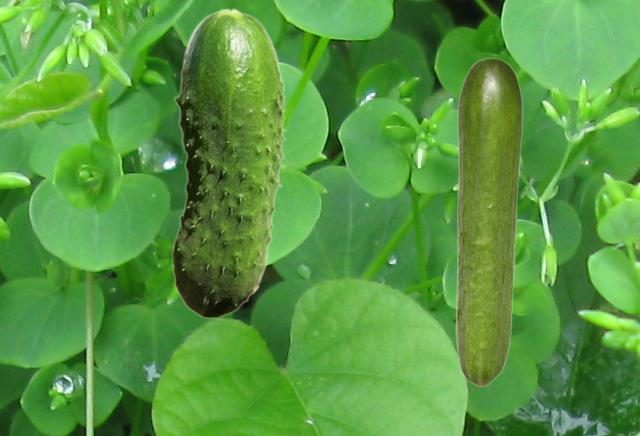cucumber: (171, 7, 286, 318), (455, 57, 522, 386)
